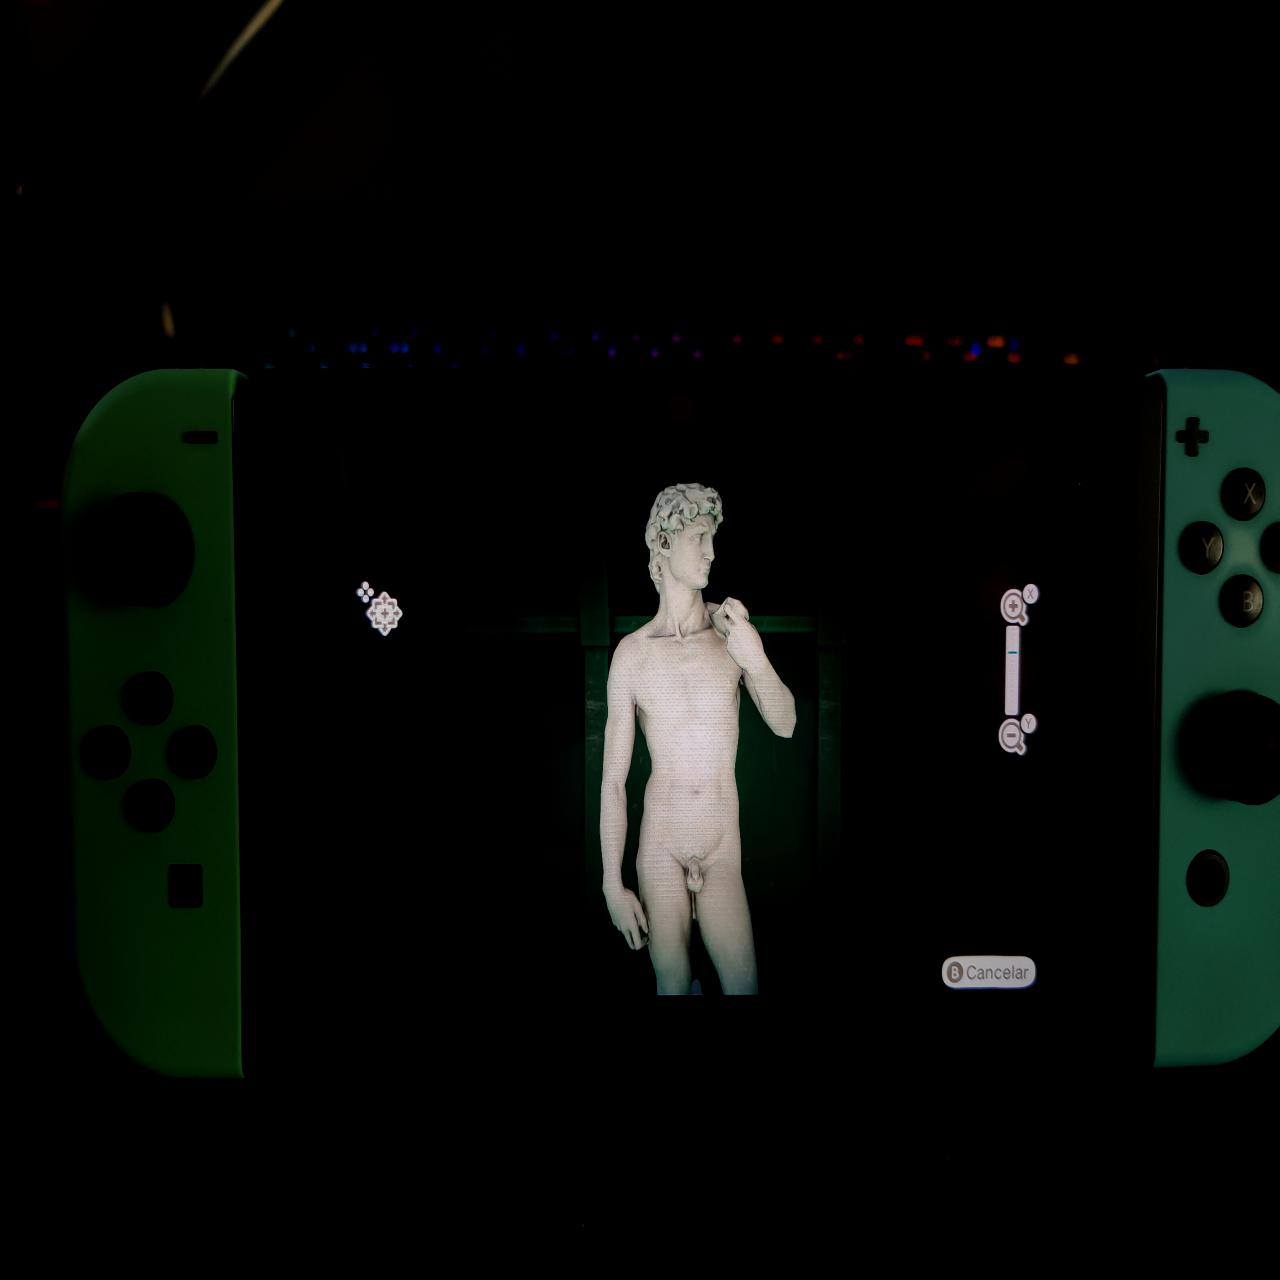David: (600, 481, 808, 995)
